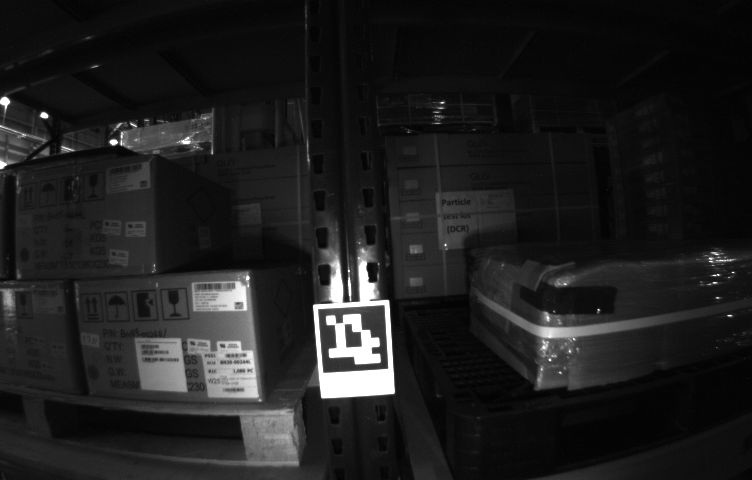True Barcode: (202, 347, 258, 398)
